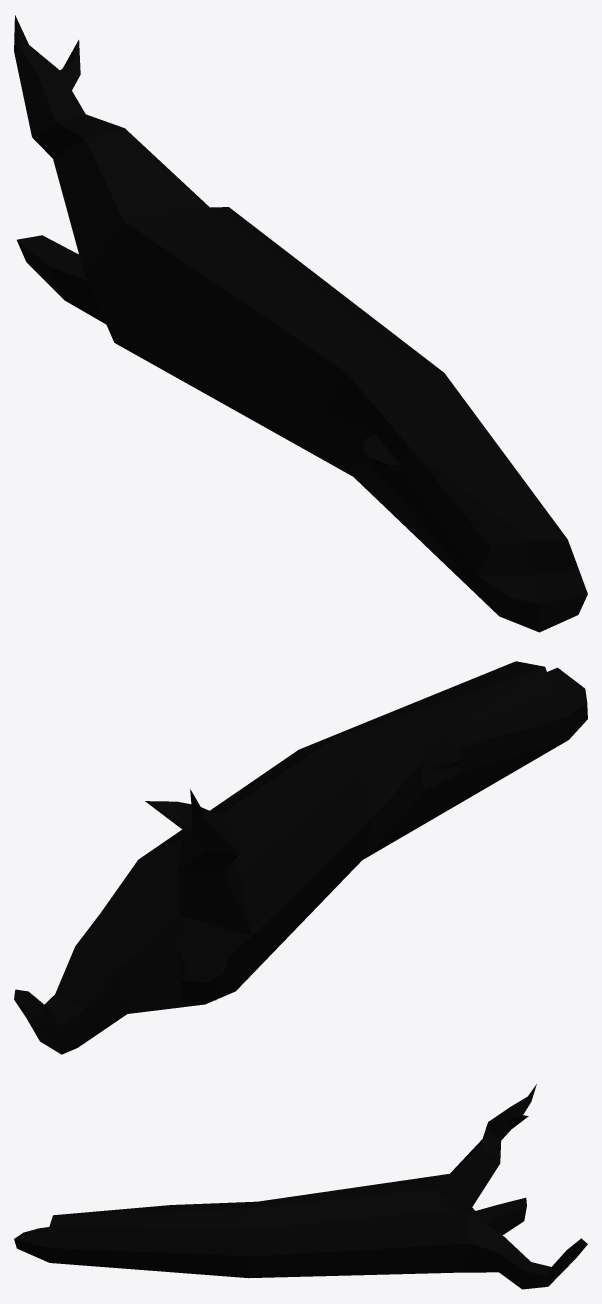
The model's file is 1Fallen_Tree.fbx.
3 renders of one model, top to bottom at view 1: azimuth 30°, elevation 25°; view 2: azimuth 150°, elevation 25°; view 3: azimuth 270°, elevation 25°, orthographic. The views are drawn at different scales.
Parts seen in each view (by area): view 1: Cube; view 2: Cube; view 3: Cube.
Part boxes in pixels (box(x1,y1,x2,y2)): Cube: box(14, 15, 587, 632); Cube: box(14, 661, 587, 1054); Cube: box(14, 1084, 587, 1289).
Size of the model in its own units: 0.8706 by 1.35 by 4.14.
